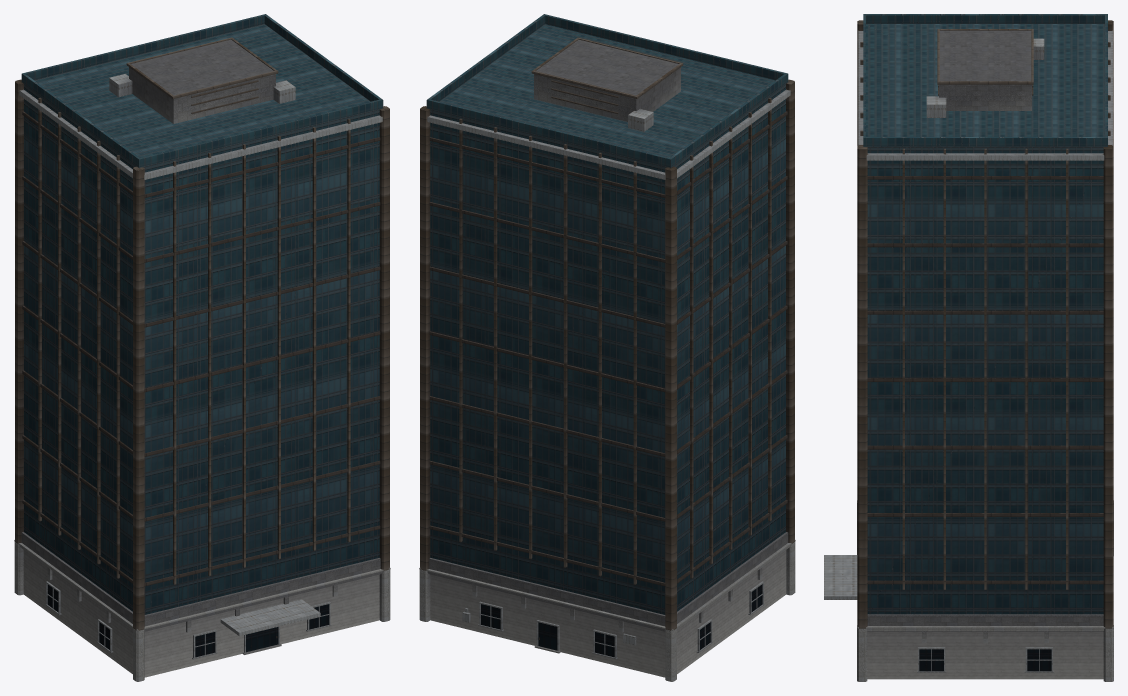
File: fort-street-tower_lod0.gltf
The picture shows the model from 3 angles, left to right: view 1: azimuth 30°, elevation 25°; view 2: azimuth 150°, elevation 25°; view 3: azimuth 270°, elevation 25°; orthographic projection. The views are drawn at different scales.
Parts seen in each view (by area): view 1: fort-street-tower_upper, fort-street-tower__v4_metal_detail, fort-street-tower__v4_stone_detail, fort-street-tower_base, fort-street-tower__cornice, fort-street-tower__parapet_front, fort-street-tower__parapet_back, fort-street-tower__canopy, fort-street-tower_fen_07-glass-curtain-blue_1_t, fort-street-tower__parapet_left, fort-street-tower__parapet_right, fort-street-tower_fen_14-steel-panel_0; view 2: fort-street-tower_upper, fort-street-tower__v4_metal_detail, fort-street-tower__v4_stone_detail, fort-street-tower_base, fort-street-tower__cornice, fort-street-tower__parapet_back, fort-street-tower__parapet_front, fort-street-tower_fen_07-glass-curtain-blue_1_t, fort-street-tower_fen_14-steel-panel_0, fort-street-tower__parapet_left, fort-street-tower__parapet_right; view 3: fort-street-tower_upper, fort-street-tower__v4_metal_detail, fort-street-tower__v4_stone_detail, fort-street-tower_base, fort-street-tower__cornice, fort-street-tower__parapet_left, fort-street-tower__parapet_right, fort-street-tower__canopy, fort-street-tower_fen_07-glass-curtain-blue_1_t, fort-street-tower_fen_14-steel-panel_0, fort-street-tower__vent_b.
Part boxes in pixels (<box>): fort-street-tower_upper: <box>24,24,379,614</box>; fort-street-tower__v4_metal_detail: <box>15,37,389,630</box>; fort-street-tower__v4_stone_detail: <box>14,39,390,681</box>; fort-street-tower_base: <box>23,550,379,677</box>; fort-street-tower__cornice: <box>19,89,382,179</box>; fort-street-tower__parapet_front: <box>137,99,383,167</box>; fort-street-tower__parapet_back: <box>21,14,266,82</box>; fort-street-tower__canopy: <box>220,599,320,636</box>; fort-street-tower_fen_07-glass-curtain-blue_1_t: <box>47,584,328,657</box>; fort-street-tower__parapet_left: <box>23,74,139,166</box>; fort-street-tower__parapet_right: <box>264,15,381,101</box>; fort-street-tower_fen_14-steel-panel_0: <box>45,581,331,659</box>; fort-street-tower_upper: <box>430,24,785,614</box>; fort-street-tower__v4_metal_detail: <box>420,37,794,630</box>; fort-street-tower__v4_stone_detail: <box>419,39,795,681</box>; fort-street-tower_base: <box>430,550,786,677</box>; fort-street-tower__cornice: <box>427,89,790,179</box>; fort-street-tower__parapet_back: <box>426,99,672,167</box>; fort-street-tower__parapet_front: <box>543,14,788,82</box>; fort-street-tower_fen_07-glass-curtain-blue_1_t: <box>481,584,762,657</box>; fort-street-tower_fen_14-steel-panel_0: <box>462,581,764,659</box>; fort-street-tower__parapet_left: <box>670,74,786,166</box>; fort-street-tower__parapet_right: <box>428,15,545,101</box>; fort-street-tower_upper: <box>866,24,1104,614</box>; fort-street-tower__v4_metal_detail: <box>857,20,1113,628</box>; fort-street-tower__v4_stone_detail: <box>857,30,1113,681</box>; fort-street-tower_base: <box>867,631,1103,679</box>; fort-street-tower__cornice: <box>858,30,1112,160</box>; fort-street-tower__parapet_left: <box>866,14,1104,23</box>; fort-street-tower__parapet_right: <box>866,137,1104,146</box>; fort-street-tower__canopy: <box>824,555,857,599</box>; fort-street-tower_fen_07-glass-curtain-blue_1_t: <box>919,649,1051,671</box>; fort-street-tower_fen_14-steel-panel_0: <box>917,647,1053,672</box>; fort-street-tower__vent_b: <box>926,96,946,117</box>.
Size of the model in its own units: 31.23 by 63.3 by 29.61.
